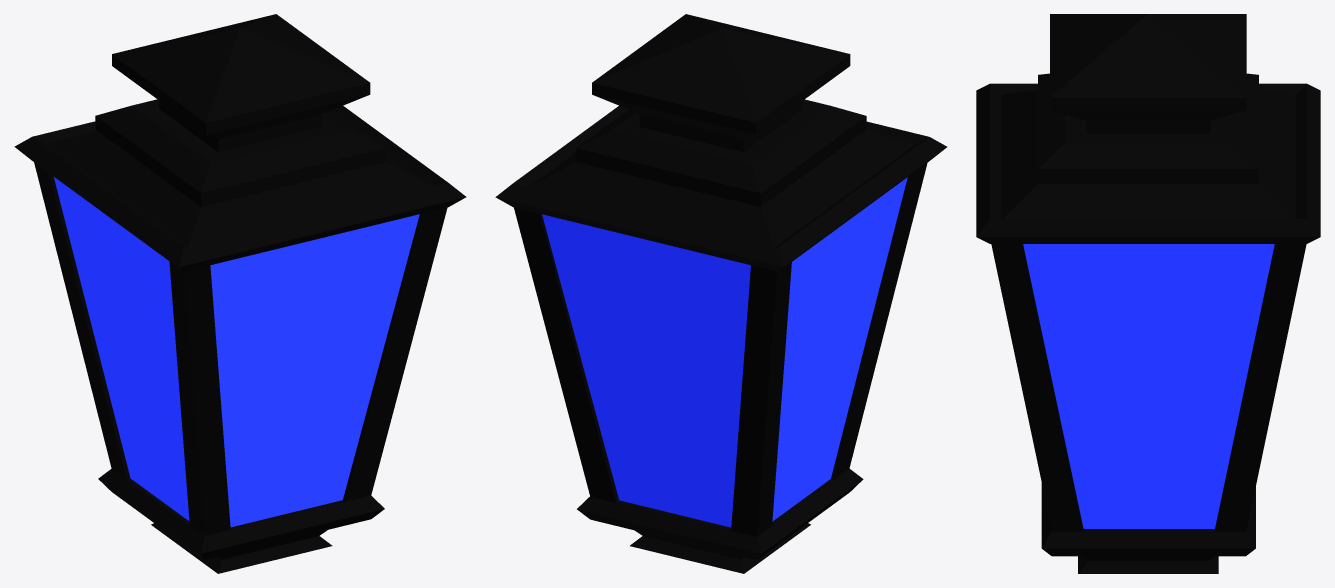
File: alarm_blue2.glb
3 views of the same model, side by side, from view 1: azimuth 30°, elevation 25°; view 2: azimuth 150°, elevation 25°; view 3: azimuth 270°, elevation 25° (orthographic). The views are drawn at different scales.
Parts seen in each view (by area): view 1: Torus.001; view 2: Torus.001; view 3: Torus.001.
Part boxes in pixels (x1,y1,x2,y2): Torus.001: [14, 14, 466, 573]; Torus.001: [495, 14, 946, 573]; Torus.001: [976, 14, 1320, 573].
Size of the model in its own units: 2.21 by 3.93 by 2.19.
